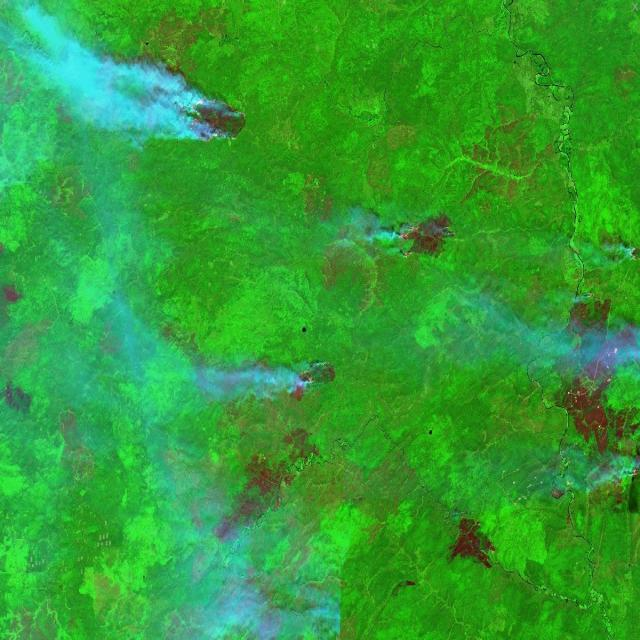fire: (182, 88, 250, 146), (389, 210, 427, 262), (290, 355, 340, 392), (622, 448, 640, 487), (624, 238, 640, 272), (578, 286, 597, 314)
